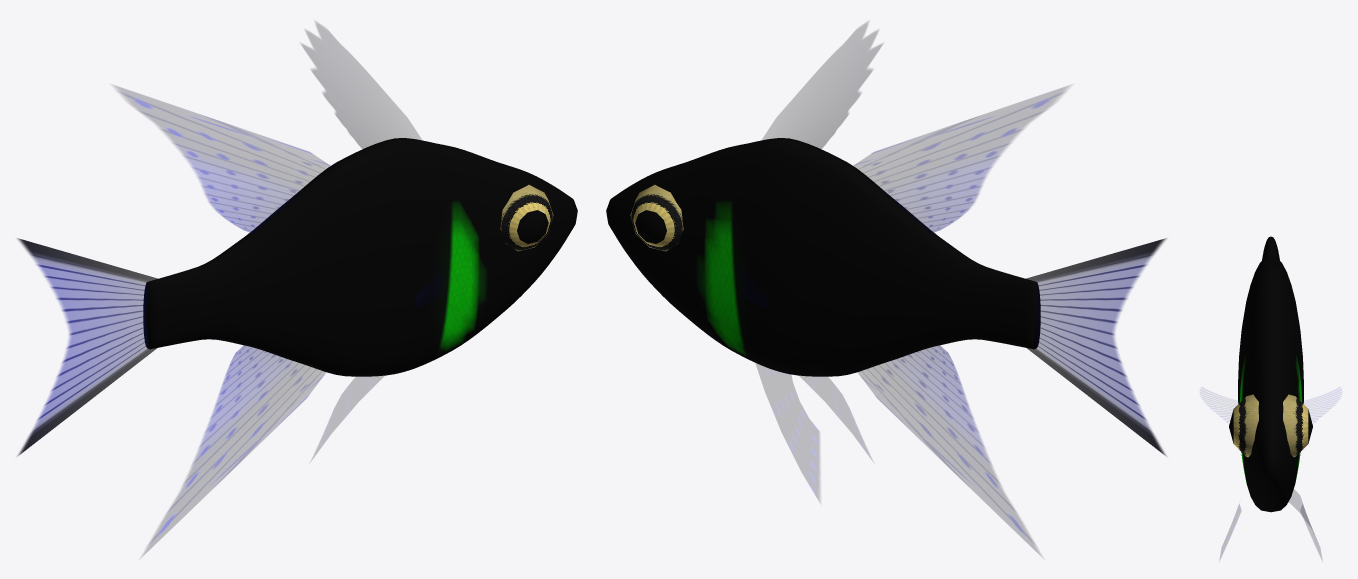
The model's file is banggai.glb.
3 views of the same model, side by side, from view 1: azimuth 30°, elevation 25°; view 2: azimuth 150°, elevation 25°; view 3: azimuth 270°, elevation 25° (orthographic). The views are drawn at different scales.
Visible parts, largest first — view 1: Body, FinCaudal, FinDorsal2, FinAnal, FinDorsal, EyeR, FinPelvicL; view 2: Body, FinCaudal, FinDorsal2, FinAnal, FinDorsal, FinPelvicL, EyeL, FinPelvicR; view 3: Body, EyeL, EyeR, FinPelvicL, FinPelvicR.
Part boxes in pixels (box(x1,y1,x2,y2)): Body: box(143, 138, 577, 376); FinCaudal: box(17, 238, 158, 456); FinDorsal2: box(114, 85, 332, 233); FinAnal: box(142, 345, 325, 556); FinDorsal: box(301, 22, 421, 150); EyeR: box(500, 185, 553, 251); FinPelvicL: box(311, 376, 383, 460); Body: box(606, 138, 1040, 376); FinCaudal: box(1025, 238, 1166, 456); FinDorsal2: box(851, 85, 1069, 233); FinAnal: box(858, 345, 1041, 556); FinDorsal: box(762, 22, 882, 150); FinPelvicL: box(755, 362, 819, 501); EyeL: box(630, 185, 683, 251); FinPelvicR: box(800, 376, 872, 460); Body: box(1238, 236, 1303, 512); EyeL: box(1283, 394, 1312, 457); EyeR: box(1229, 394, 1258, 457); FinPelvicL: box(1289, 489, 1321, 558); FinPelvicR: box(1220, 504, 1241, 558).
Bounding box in the file's own units: 1 × 0.859 × 0.2323.
Materials: 4 (3 with a texture image).
